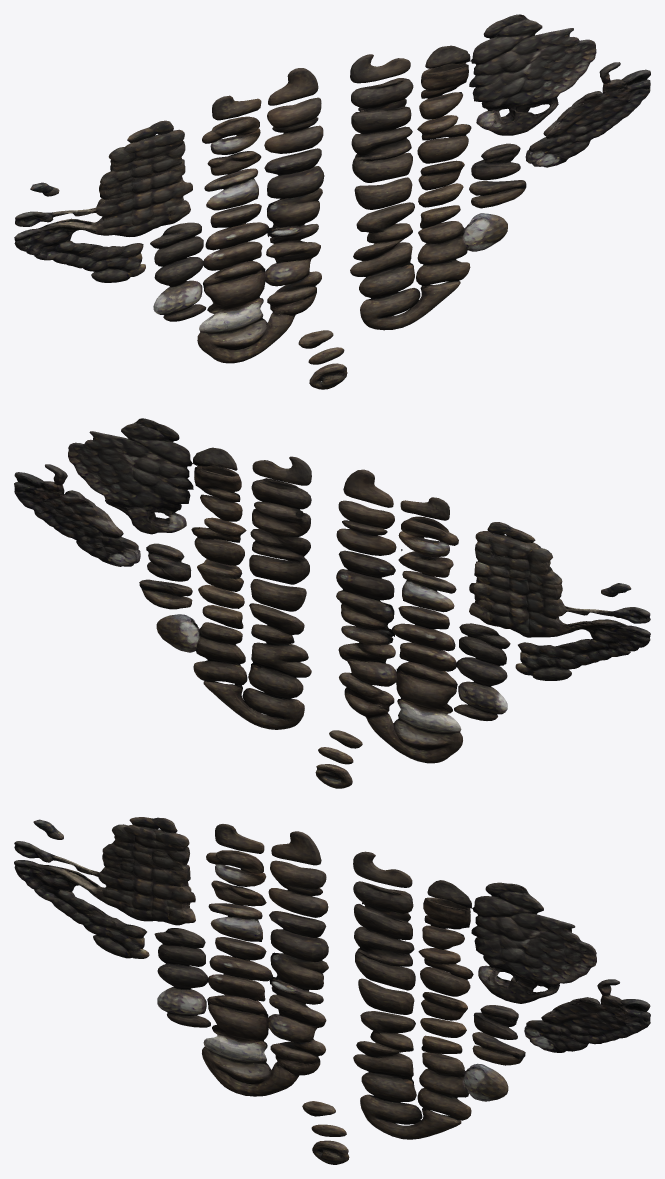
The picture shows the model from 3 angles, top to bottom: view 1: azimuth 30°, elevation 25°; view 2: azimuth 150°, elevation 25°; view 3: azimuth 330°, elevation 25°; orthographic projection.
Visible parts, largest first — view 1: world; view 2: world; view 3: world.
Boxes of the visible parts, x1=… form: world: x1=14, y1=14, x2=650, y2=389; world: x1=14, y1=418, x2=650, y2=788; world: x1=14, y1=817, x2=650, y2=1164.
Bounding box in the file's own units: 2 × 0.981 × 0.0561.
Materials: 1 (1 with a texture image).
